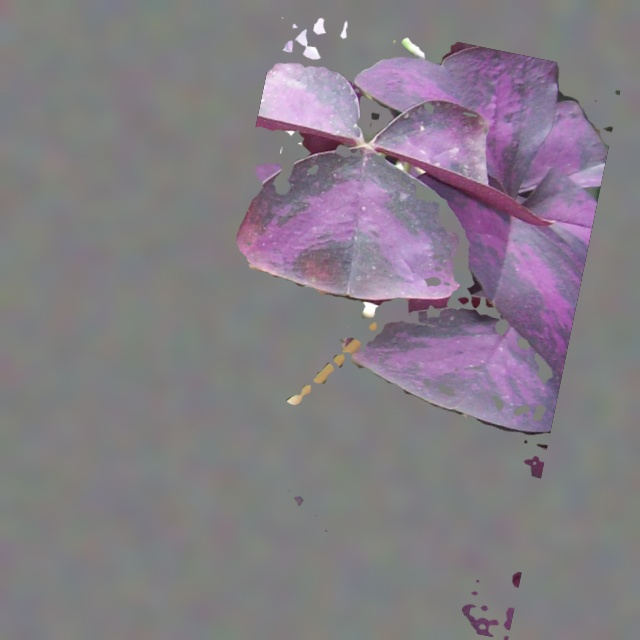butterfly flower: (236, 18, 619, 639)
